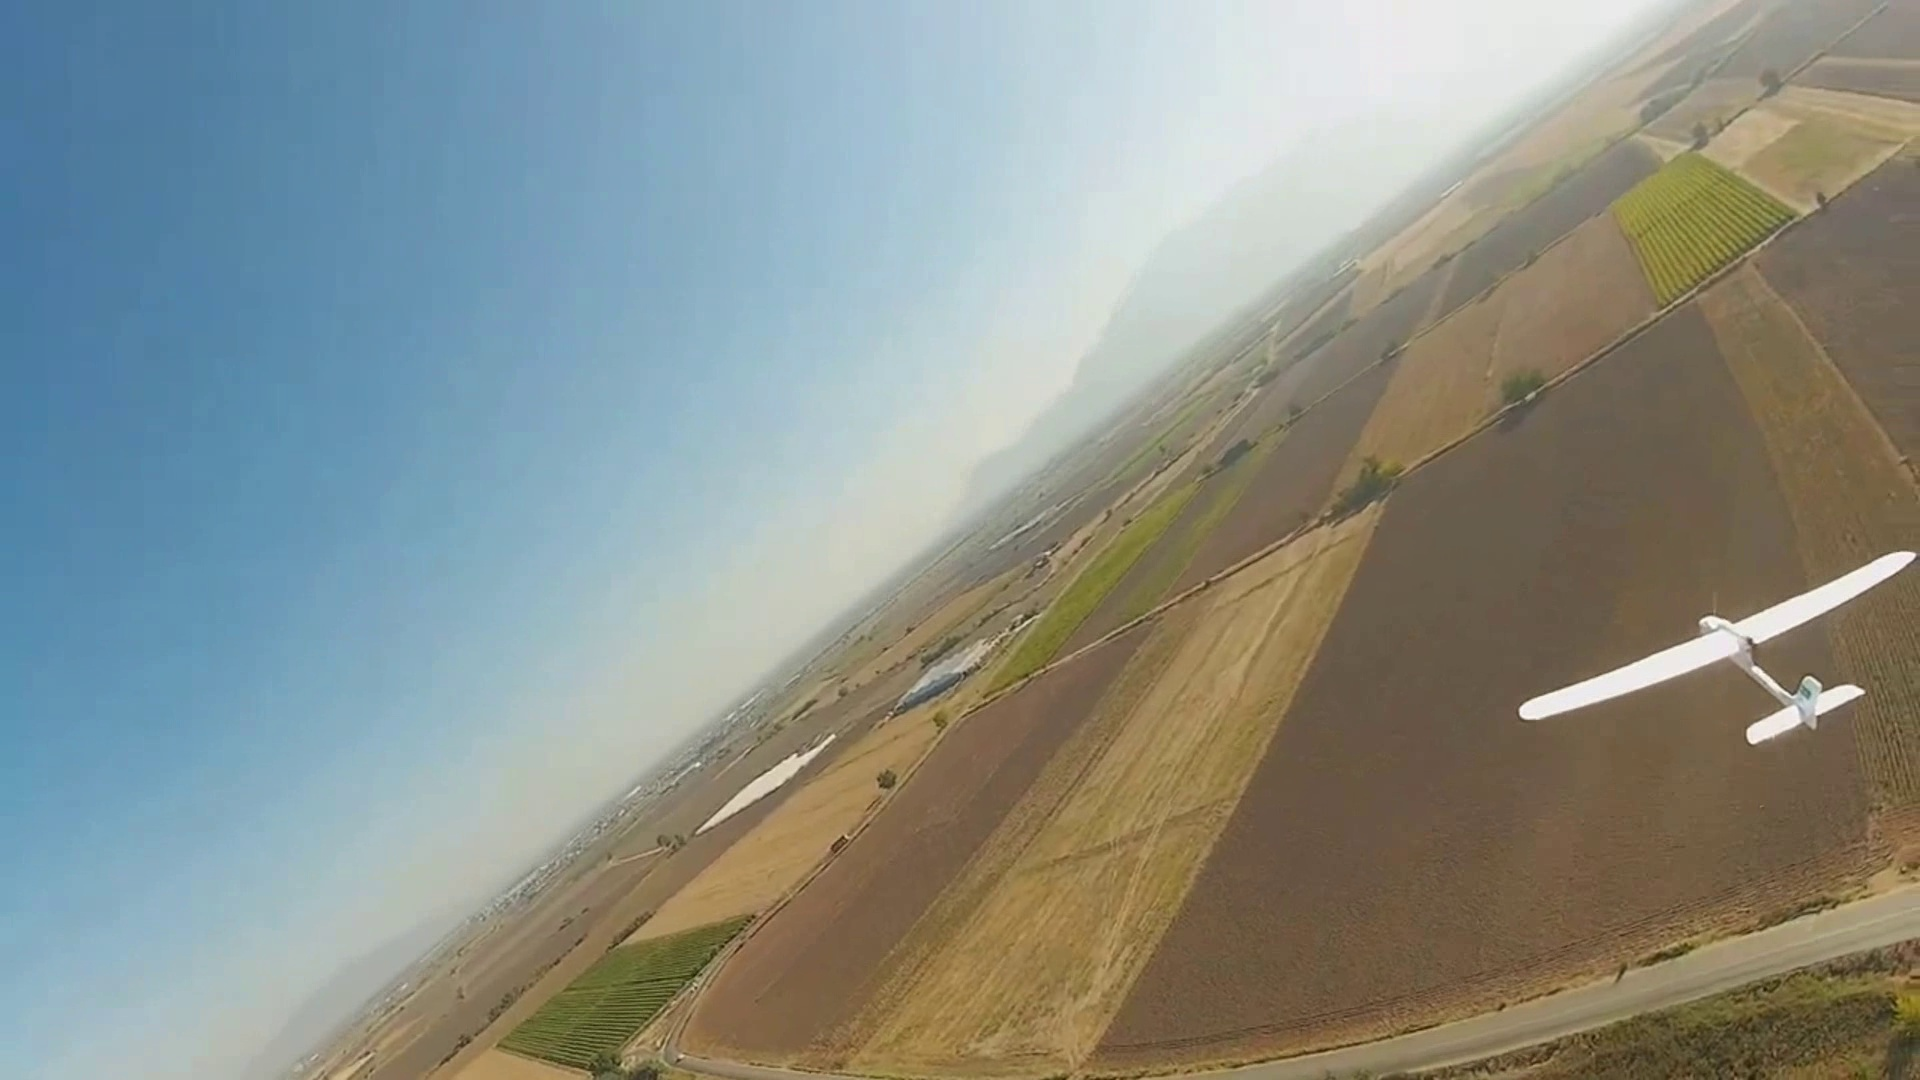airplane: (1516, 550, 1916, 745)
